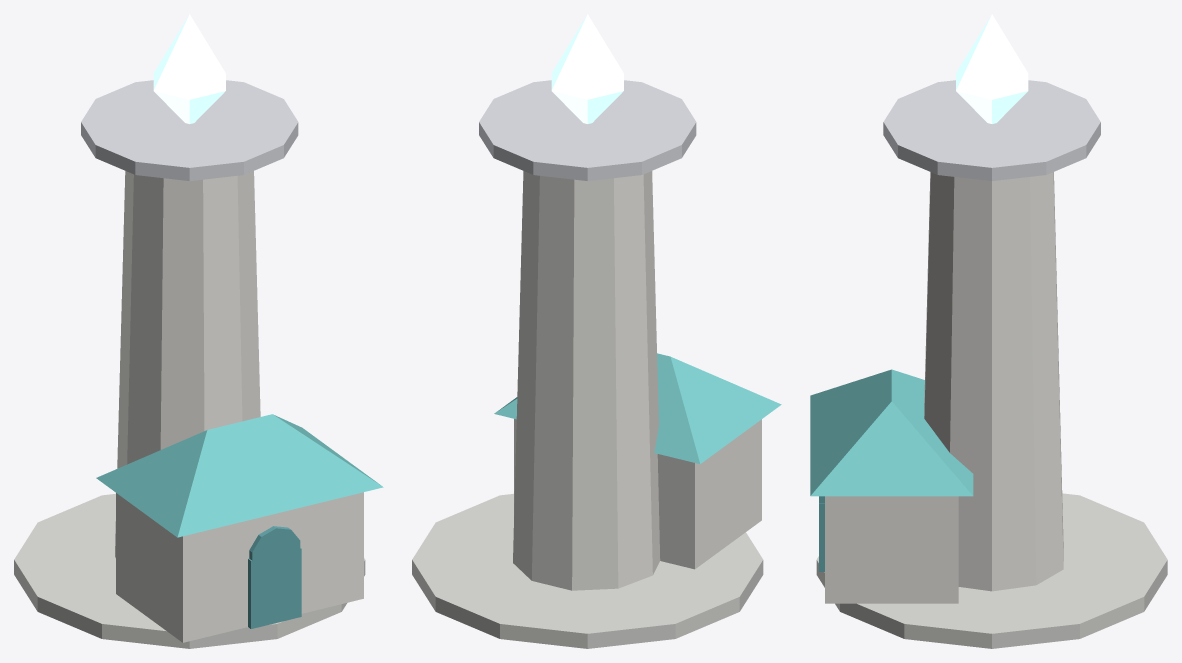
The picture shows the model from 3 angles, left to right: view 1: azimuth 30°, elevation 25°; view 2: azimuth 150°, elevation 25°; view 3: azimuth 270°, elevation 25°; orthographic projection.
Parts seen in each view (by area): view 1: body; view 2: body; view 3: body.
Boxes of the visible parts, x1,y1,x2,y2 form: body: (14,14,383,648); body: (412,14,781,648); body: (810,14,1167,648).
Size of the model in its own units: 8.4 by 14.8 by 8.55.
